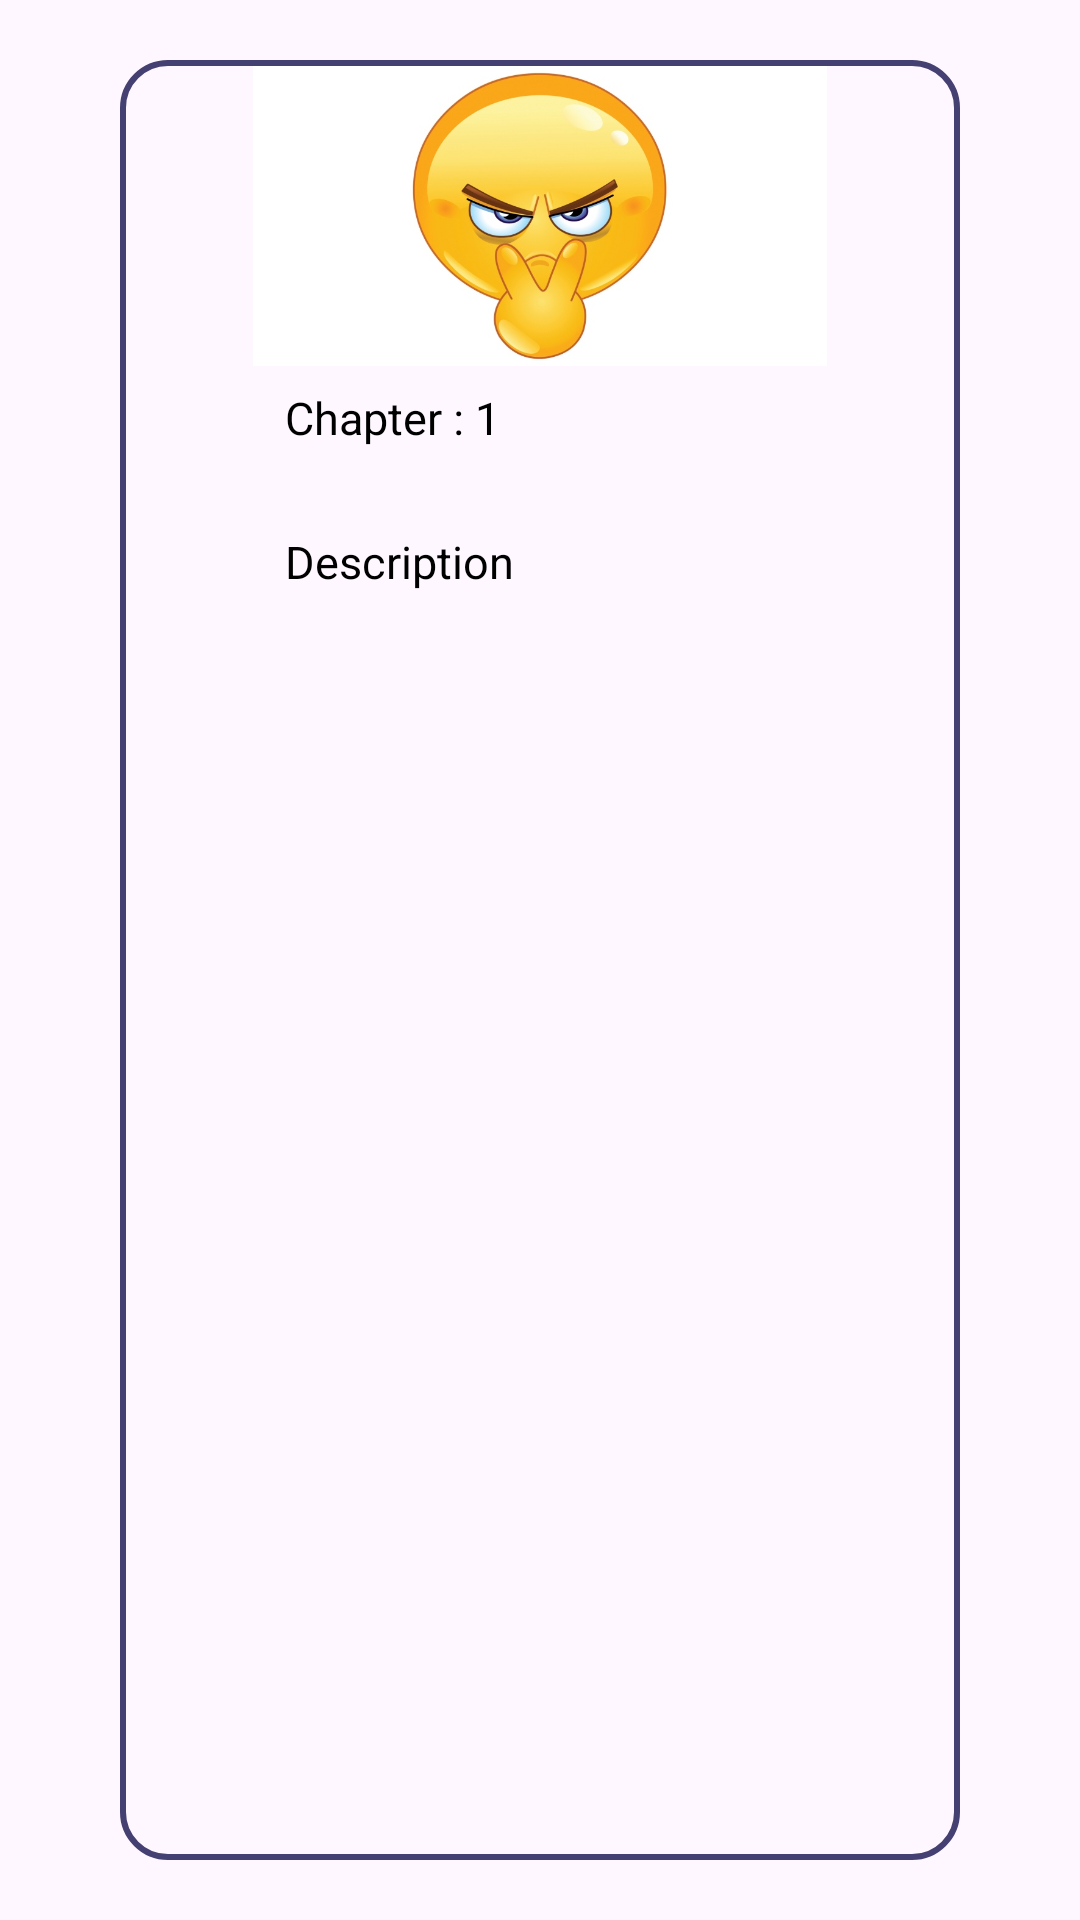

Screen size 1080px x 1920px. Icon name, then its center in pixels as [x,y]:
Todays fact emoji: [539,216]
